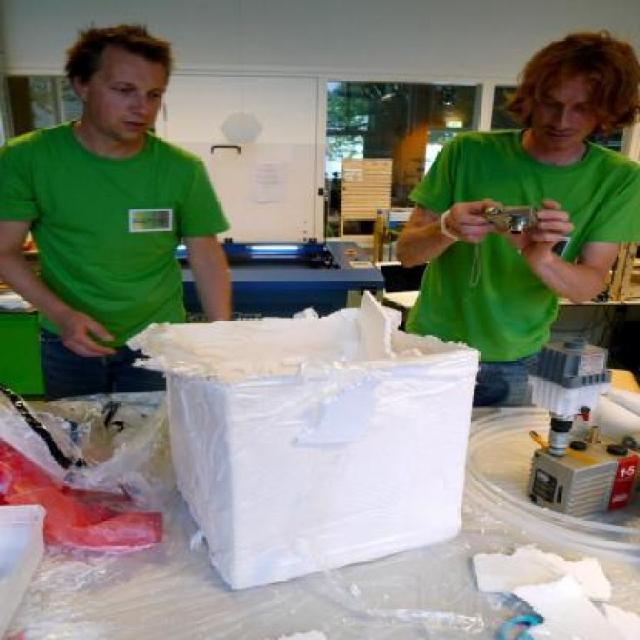plastic bag: (0, 400, 162, 554), (0, 387, 178, 512)
